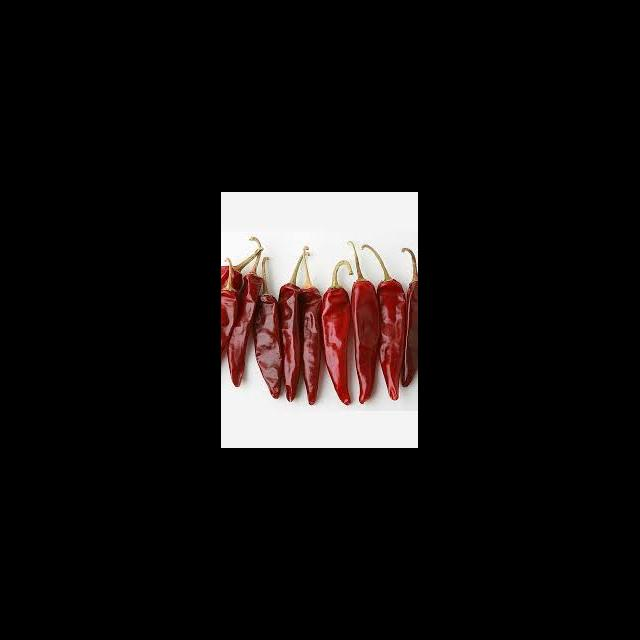chili_pepper: (292, 282, 324, 405), (228, 277, 264, 383), (322, 284, 352, 406), (354, 278, 382, 403), (253, 289, 284, 401), (383, 278, 407, 403), (403, 280, 418, 391)
